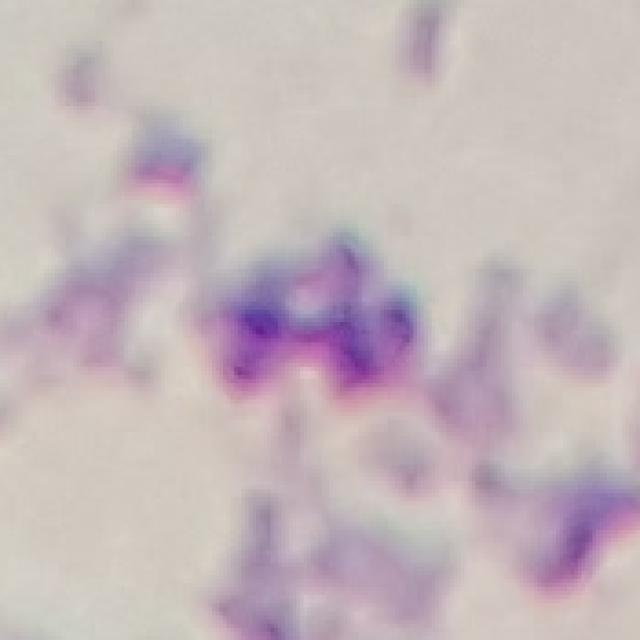non-sperm: (211, 236, 421, 405)
